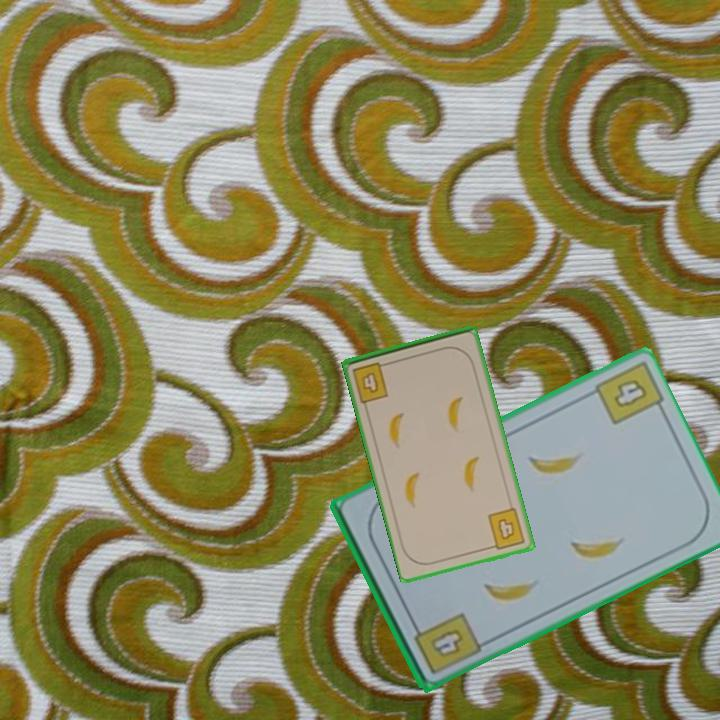4b: (407, 608, 484, 677), (484, 504, 528, 552), (349, 358, 393, 406), (610, 374, 651, 411)
